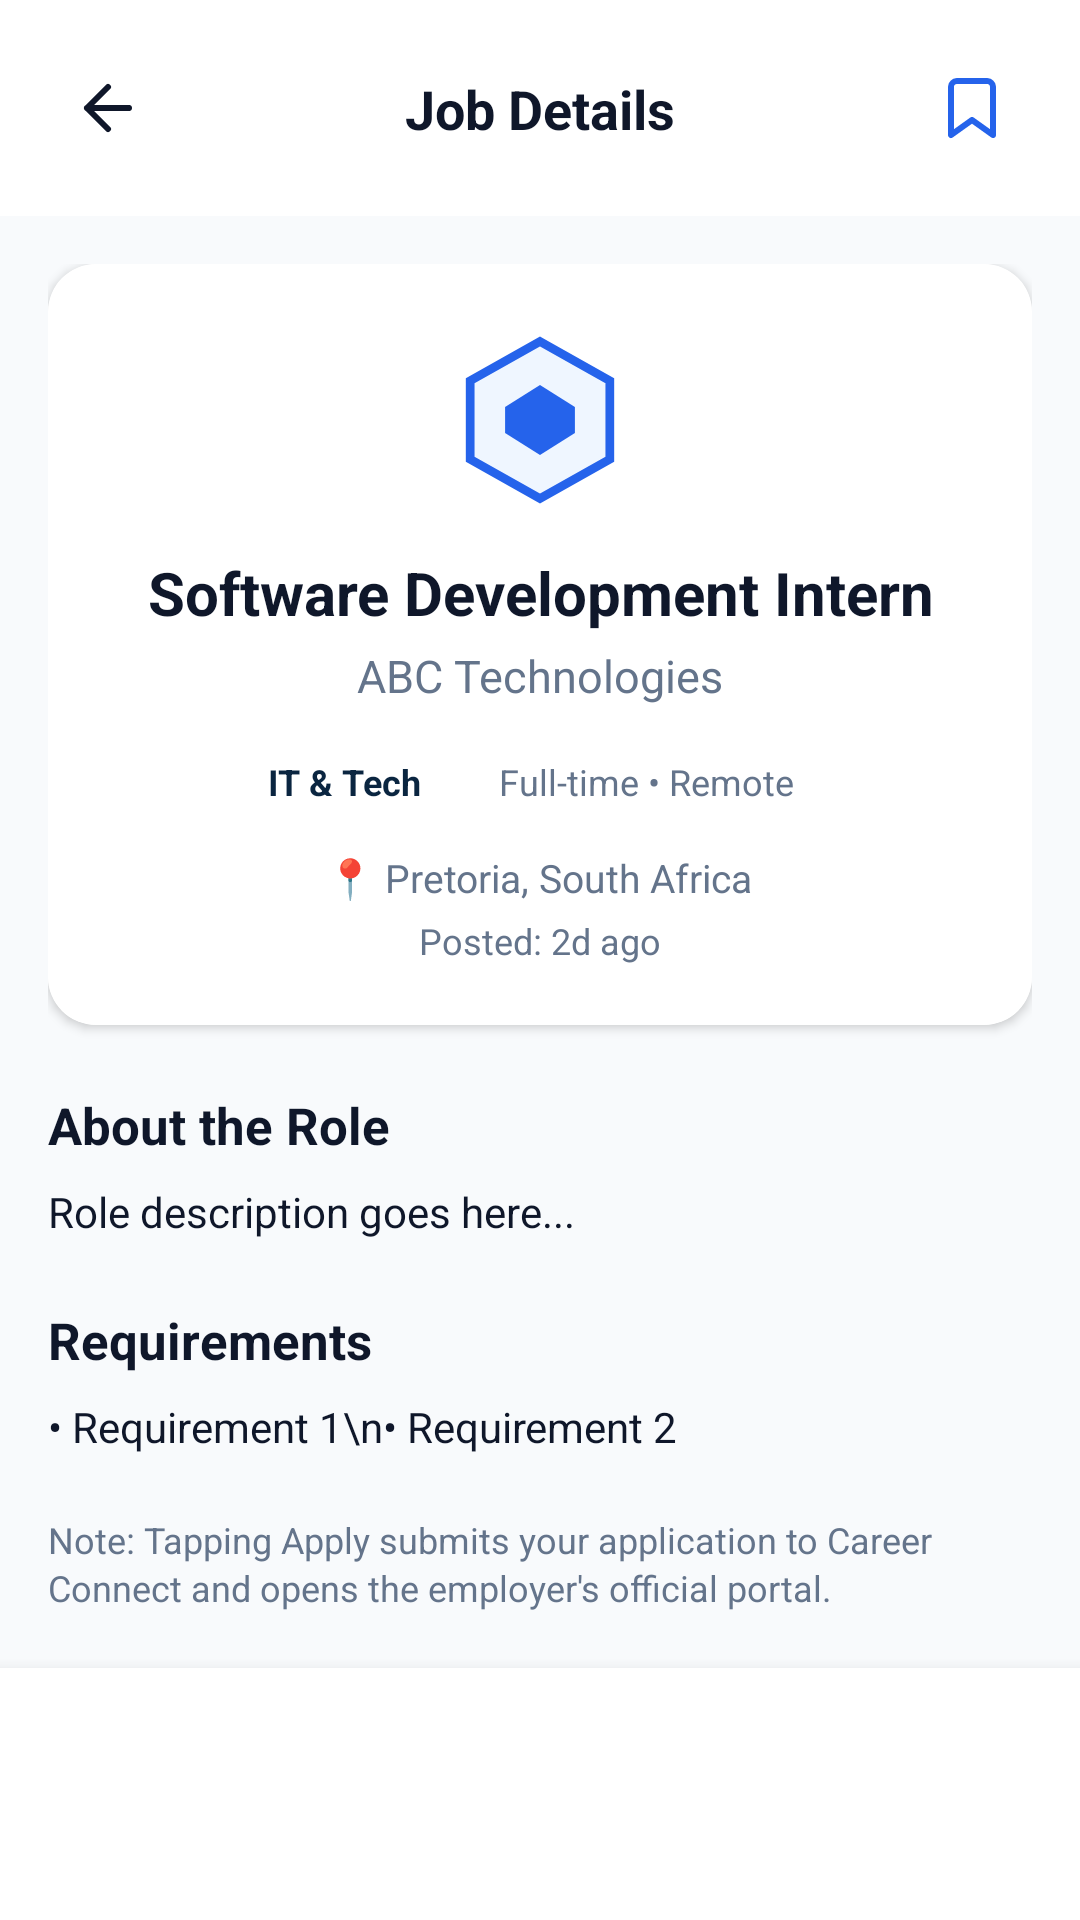

Icon bounding boxes for this 1080×1920 phone screenshot, format bbox=(x1, y1, x2, y2):
Back: bbox=(84, 84, 132, 132)
Save Job: bbox=(948, 78, 996, 138)
